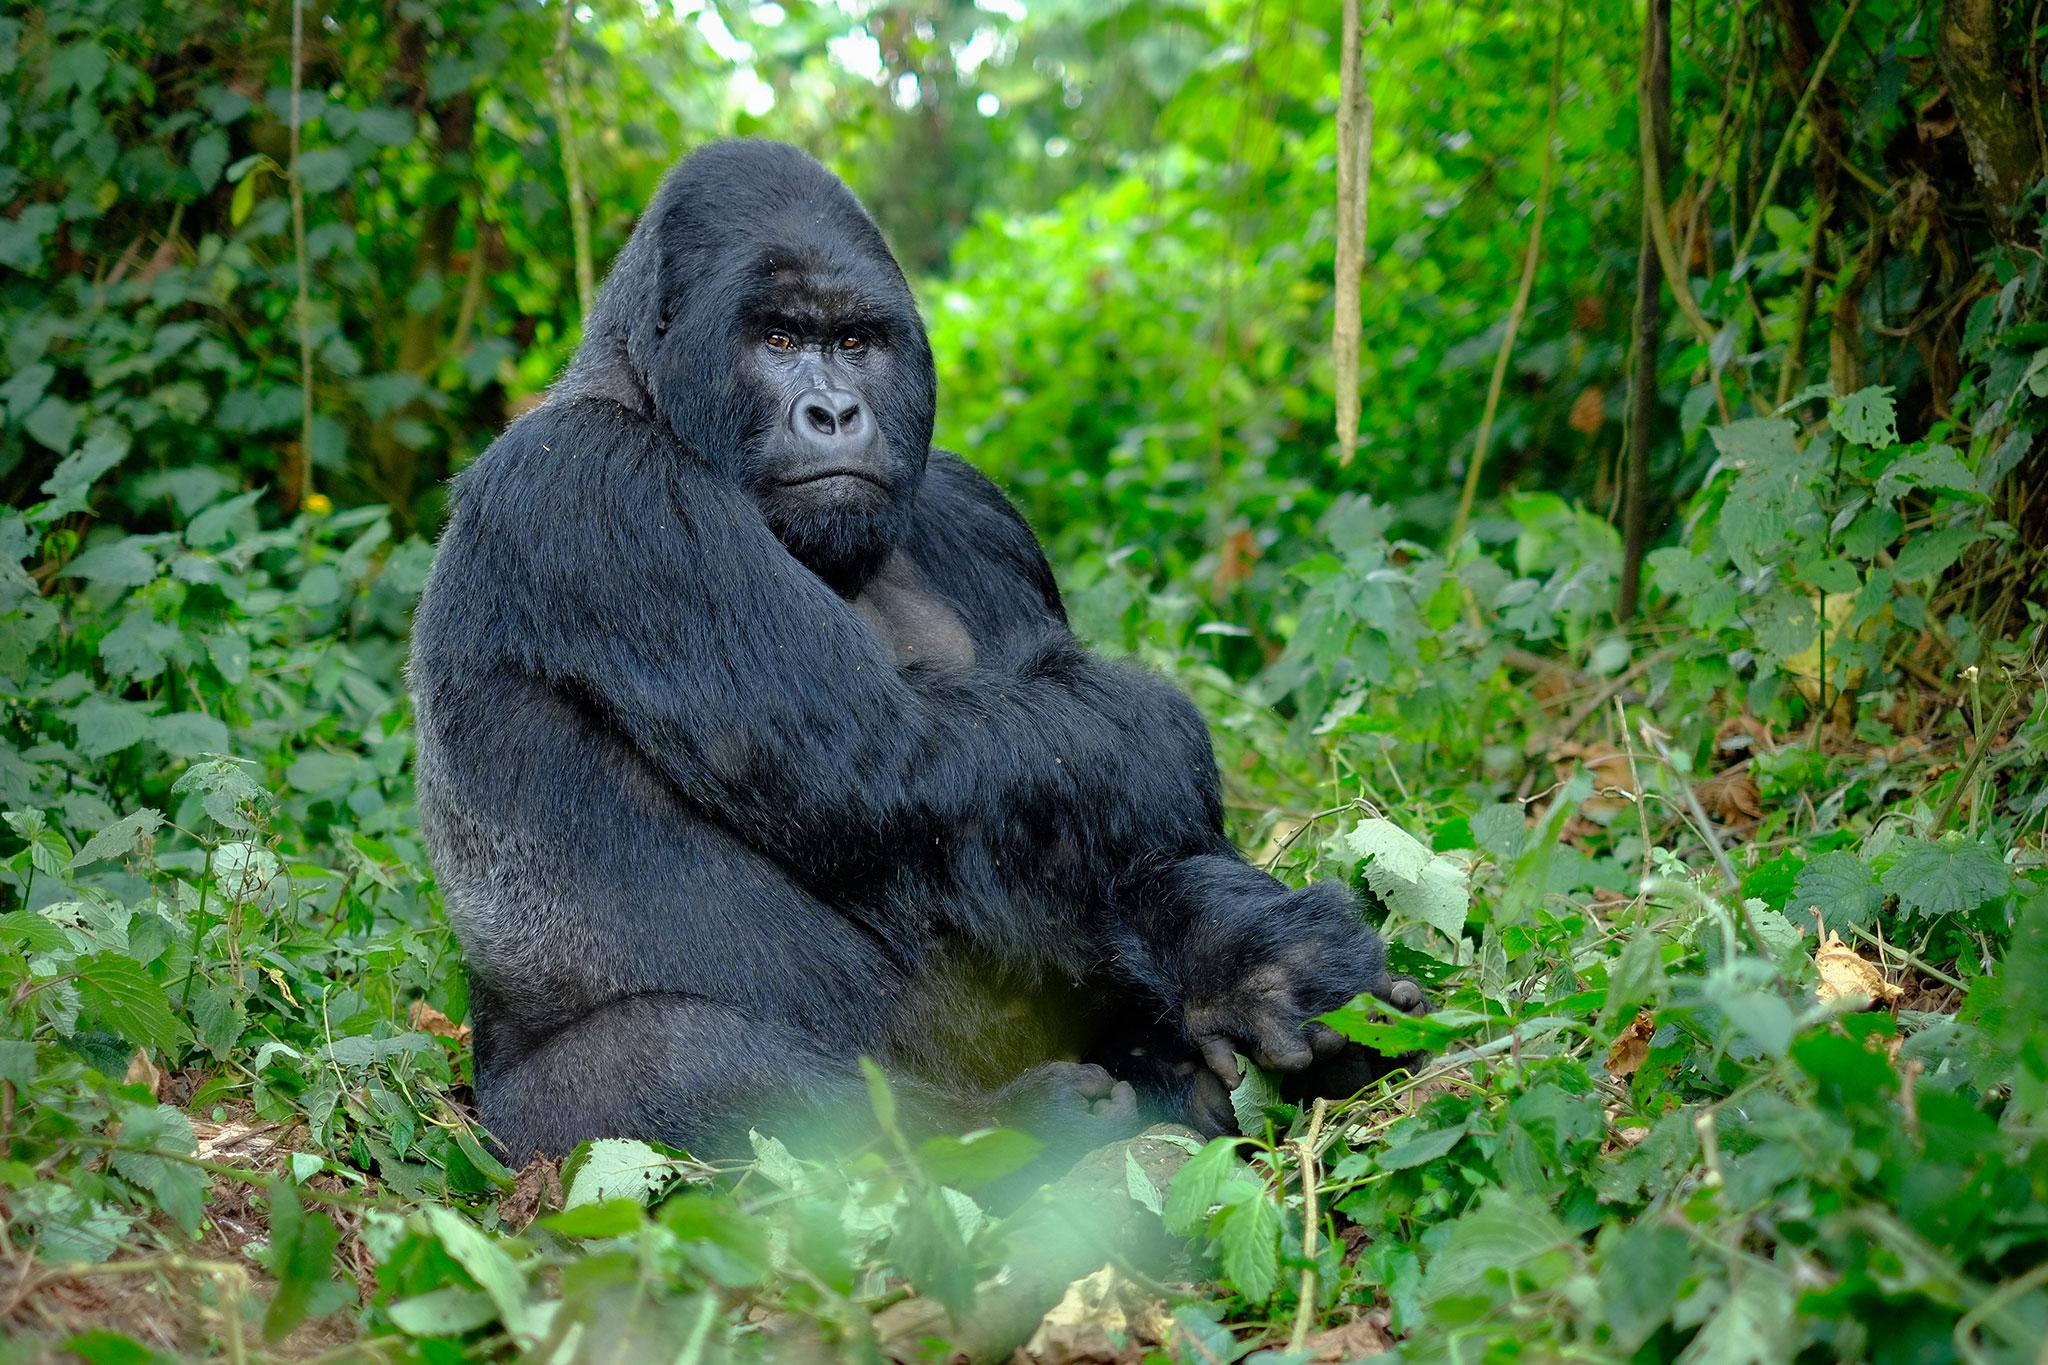gorille_Autres: (393, 0, 1357, 1197)
